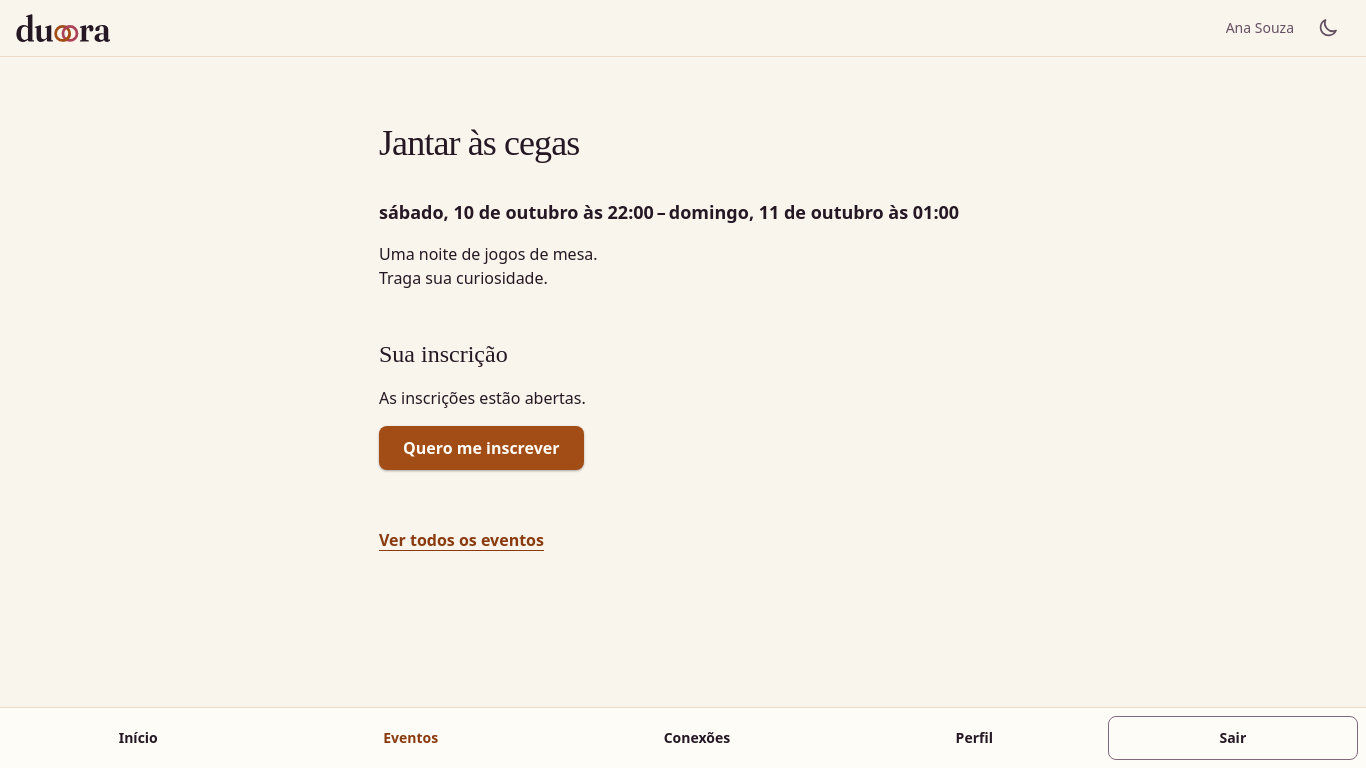
Scenario: event page › registration before the event › registers with the CSRF token and says so, with the focus on the confirmation
Click the button "Quero me inscrever": (481, 448) [379,426,584,470]
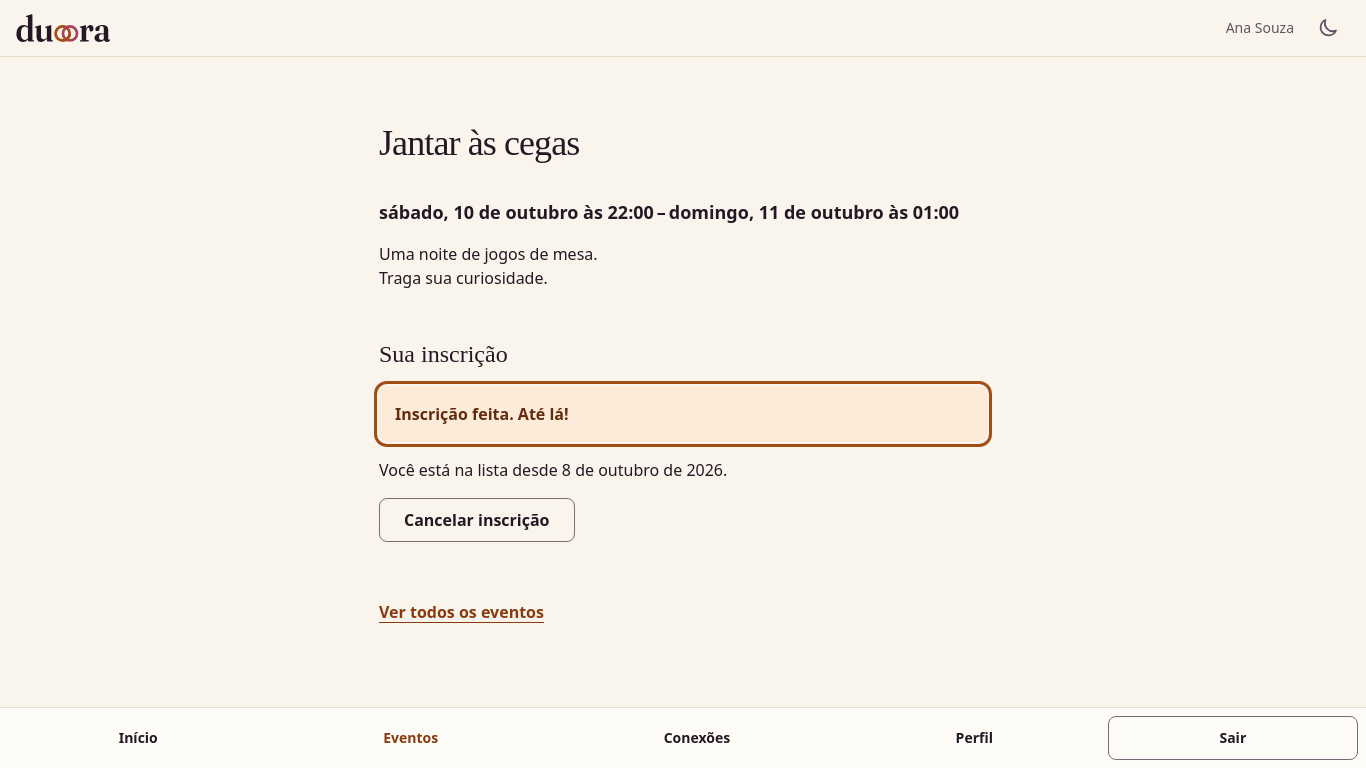
expect the message reads "Inscrição feita. Até lá!": met, box [395,403,569,425]
expect the text "Você está na lista desde 8 de outubro de 2026." is shown: met, box [379,458,727,482]
expect the button "Cancelar inscrição" is shown: met, box [379,498,574,542]
